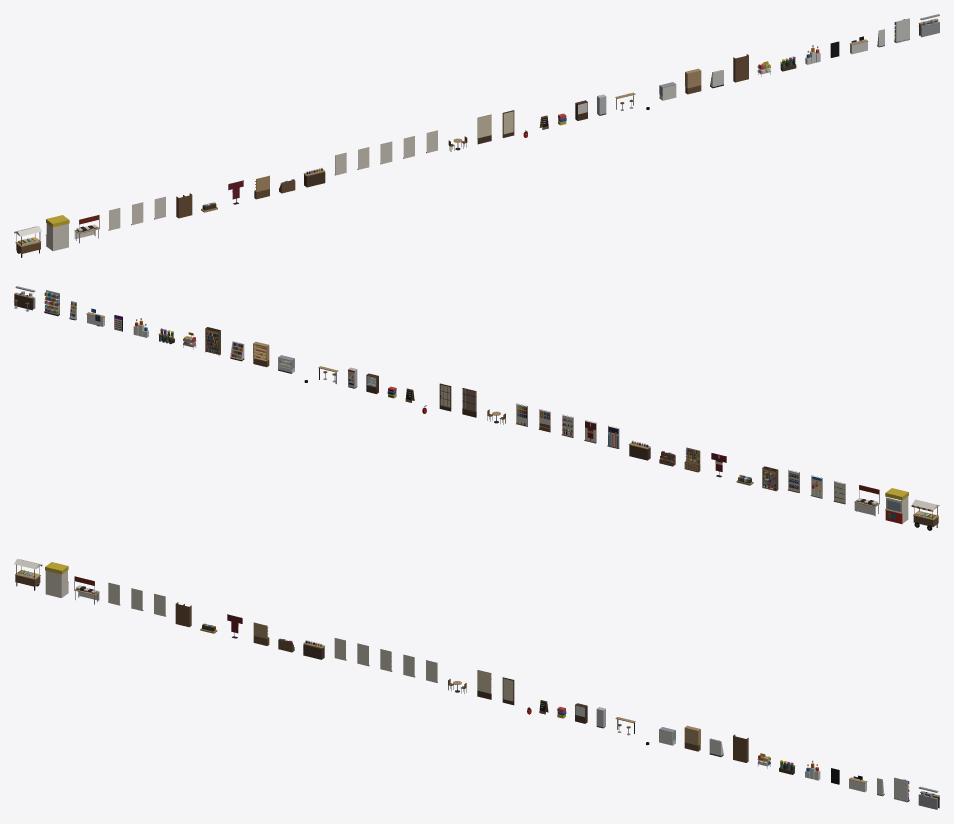
Rendered from shops.glb.
3 renders of one model, top to bottom at view 1: azimuth 30°, elevation 25°; view 2: azimuth 150°, elevation 25°; view 3: azimuth 330°, elevation 25°, orthographic.
Parts seen in each view (by area): view 1: shops_lotto_body, shops_cart_body; view 2: shops_lotto_body, shops_cart_body; view 3: shops_lotto_body, shops_cart_body.
Part boxes in pixels (x1,y1,x2,y2): shops_lotto_body: (45, 215, 69, 251); shops_cart_body: (14, 226, 41, 257); shops_lotto_body: (885, 488, 908, 523); shops_cart_body: (911, 499, 939, 530); shops_lotto_body: (45, 562, 68, 597); shops_cart_body: (14, 559, 42, 590).
Size of the model in its own units: 80.64 by 2.88 by 1.13.
